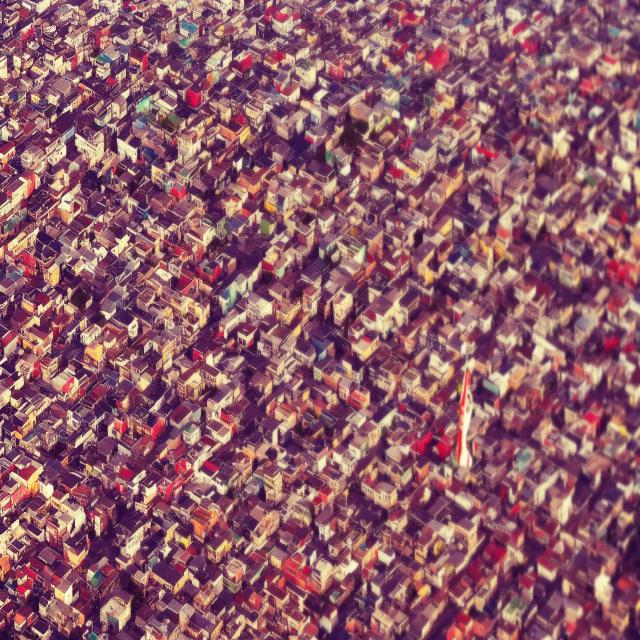airplane: (456, 366, 473, 467)
